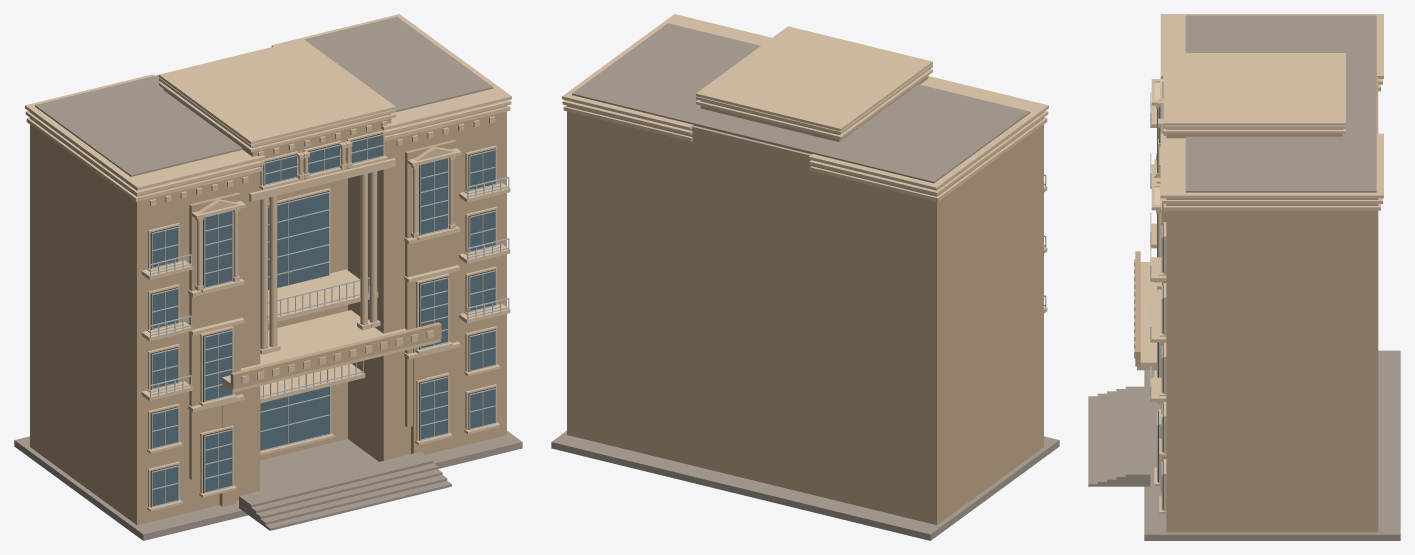
File: h_backup.glb
3 views of the same model, side by side, from view 1: azimuth 30°, elevation 25°; view 2: azimuth 150°, elevation 25°; view 3: azimuth 270°, elevation 25° (orthographic).
Parts seen in each view (by area): view 1: Side wing, Side wing.001, Flat roof, Central cornice.002, Foundation, Vertical facade bay, Vertical facade bay.001, Glazing.018, Entrance canopy, Recessed central block, Wing roof cornice.002, Glazing.016 (+42 smaller); view 2: Side wing, Recessed central block, Side wing.001, Flat roof, Central cornice.002, Foundation, Wing roof cornice.002, Wing roof cornice.005, Wing roof cornice, Wing roof cornice.001, Central cornice, Central cornice.001 (+3 smaller); view 3: Side wing.001, Flat roof, Central cornice.002, Foundation, Wing roof cornice.005, Entrance step.004, Wing roof cornice.002, Entrance canopy, Wing roof cornice.003, Entrance step, Entrance step.001, Entrance step.002 (+6 smaller).
Part boxes in pixels (<box>): Side wing: <box>30,112,260,524</box>; Side wing.001: <box>348,105,506,461</box>; Flat roof: <box>35,16,493,176</box>; Central cornice.002: <box>159,39,395,144</box>; Foundation: <box>14,431,522,540</box>; Vertical facade bay: <box>189,192,240,480</box>; Vertical facade bay.001: <box>405,139,456,427</box>; Glazing.018: <box>268,193,328,290</box>; Entrance canopy: <box>222,310,440,392</box>; Recessed central block: <box>260,178,347,460</box>; Wing roof cornice.002: <box>25,74,265,190</box>; Glazing.016: <box>260,386,329,450</box>; Side wing: <box>813,112,1043,524</box>; Recessed central block: <box>690,125,813,494</box>; Side wing.001: <box>567,105,690,464</box>; Flat roof: <box>572,23,1030,183</box>; Central cornice.002: <box>696,26,932,131</box>; Foundation: <box>551,431,1059,540</box>; Wing roof cornice.002: <box>808,76,1048,190</box>; Wing roof cornice.005: <box>562,14,771,130</box>; Wing roof cornice: <box>810,117,1047,201</box>; Wing roof cornice.001: <box>809,111,1048,195</box>; Central cornice: <box>696,69,932,139</box>; Central cornice.001: <box>696,64,932,134</box>; Side wing.001: <box>1166,198,1378,532</box>; Flat roof: <box>1185,15,1376,192</box>; Central cornice.002: <box>1163,53,1345,125</box>; Foundation: <box>1144,350,1400,540</box>; Wing roof cornice.005: <box>1160,133,1383,198</box>; Entrance step.004: <box>1125,386,1150,486</box>; Wing roof cornice.002: <box>1160,14,1383,78</box>; Entrance canopy: <box>1137,262,1161,370</box>; Wing roof cornice.003: <box>1163,204,1380,210</box>; Entrance step: <box>1088,396,1137,486</box>; Entrance step.001: <box>1097,393,1140,486</box>; Entrance step.002: <box>1107,391,1144,486</box>.
Bounding box in the file's own units: 24.6 × 22.53 × 17.65.
